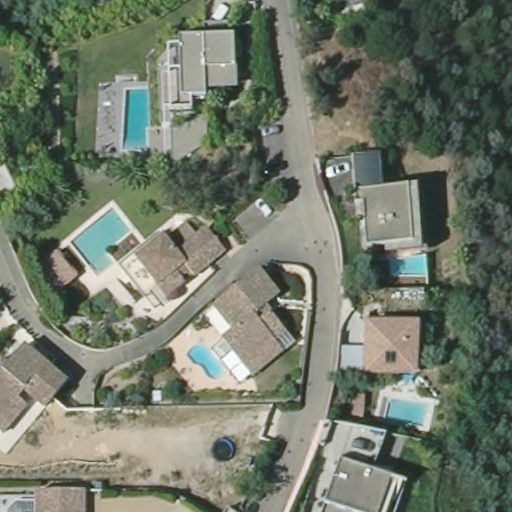pool: (70, 209, 130, 275), (119, 86, 155, 155), (187, 342, 228, 381), (382, 395, 429, 429), (387, 250, 429, 280)
